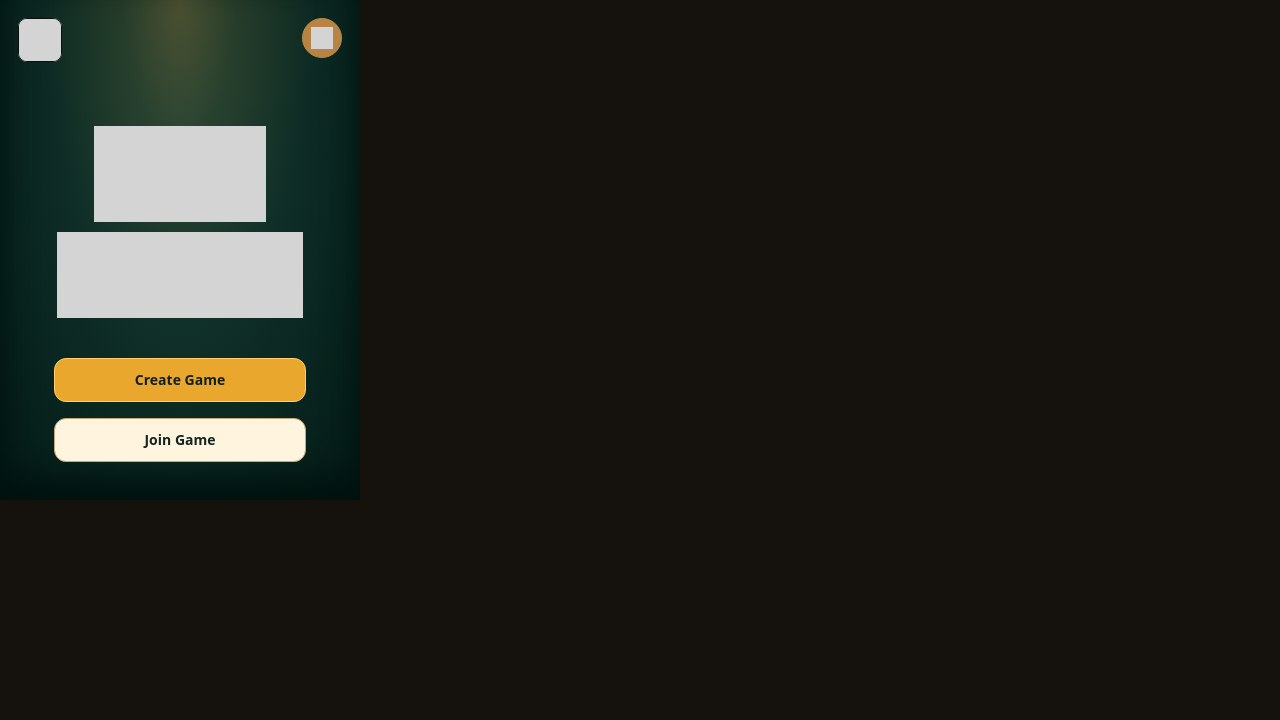
Scenario: keeps transient cancellation failure modal retry-only
Click the button "Create Game".
click(180, 380)  # box left=54, top=358, right=306, bottom=402
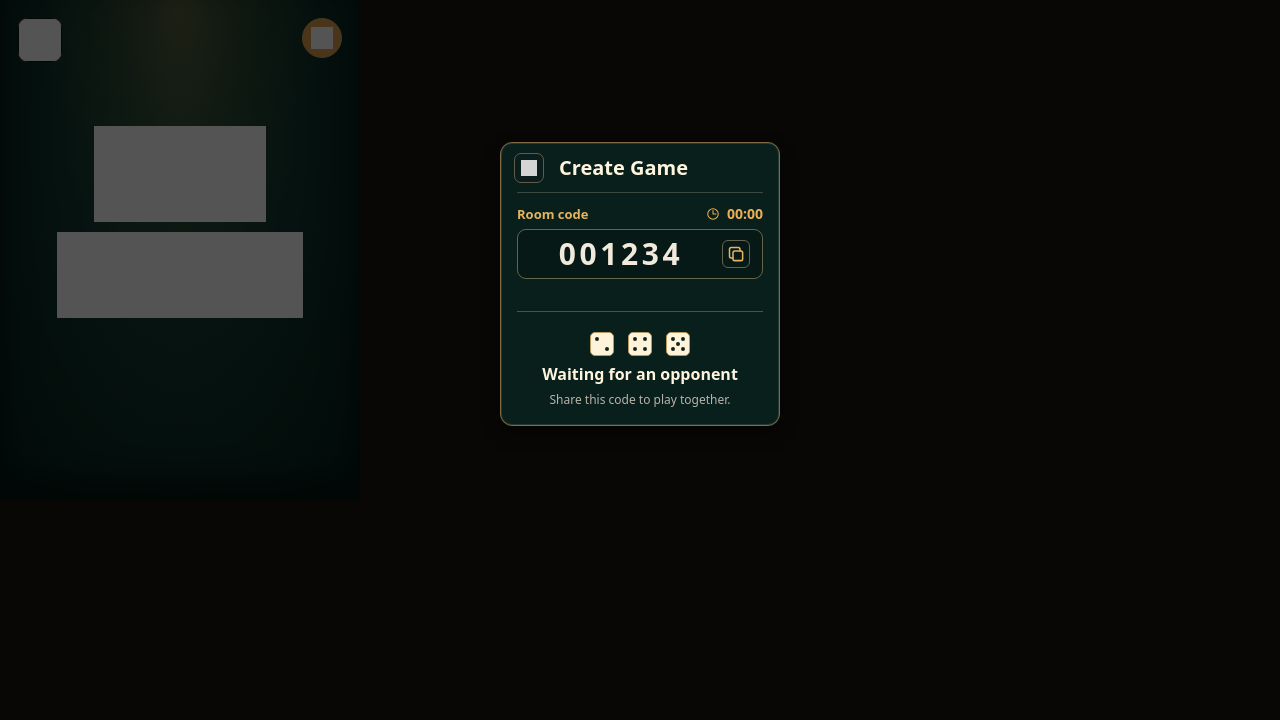
Expected: the text "001234" is shown, left=559, top=233, right=683, bottom=274
Click the button named "Cancel".
click(529, 168)  # box left=507, top=146, right=551, bottom=190
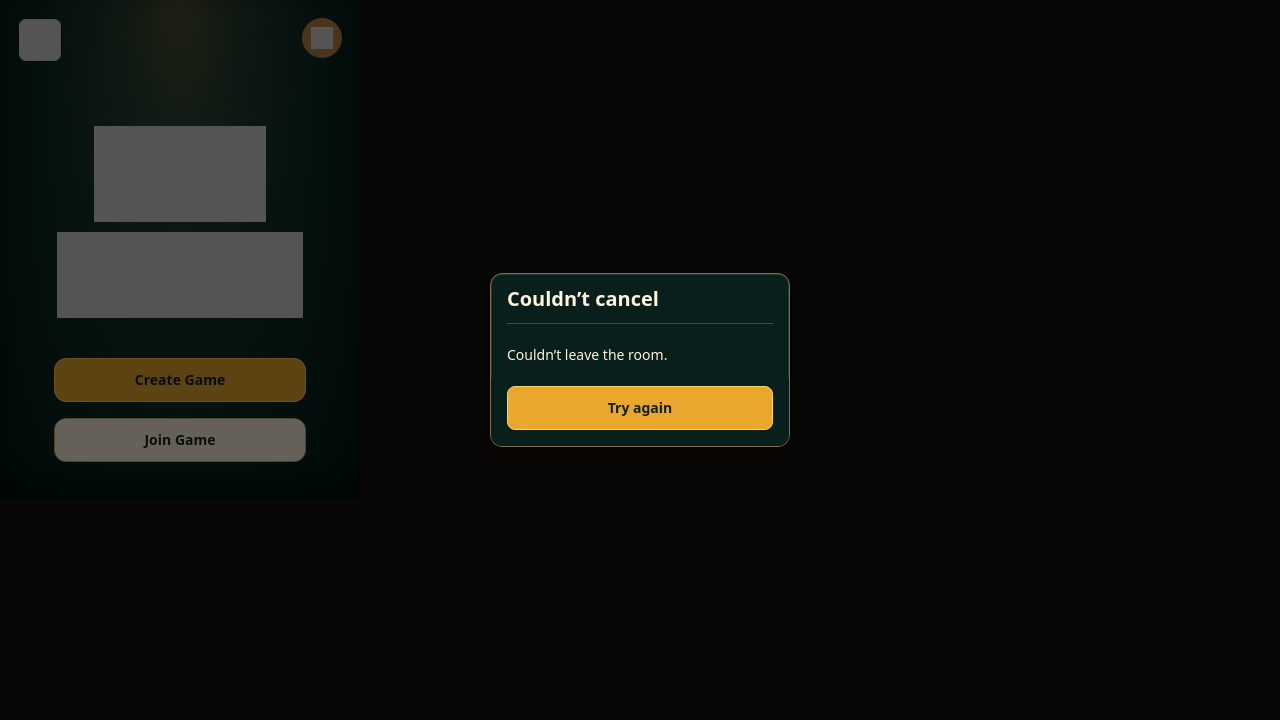
Expected: the dialog "Couldn’t cancel" is shown
Expected: the button "Try again" is shown, left=507, top=386, right=773, bottom=430
